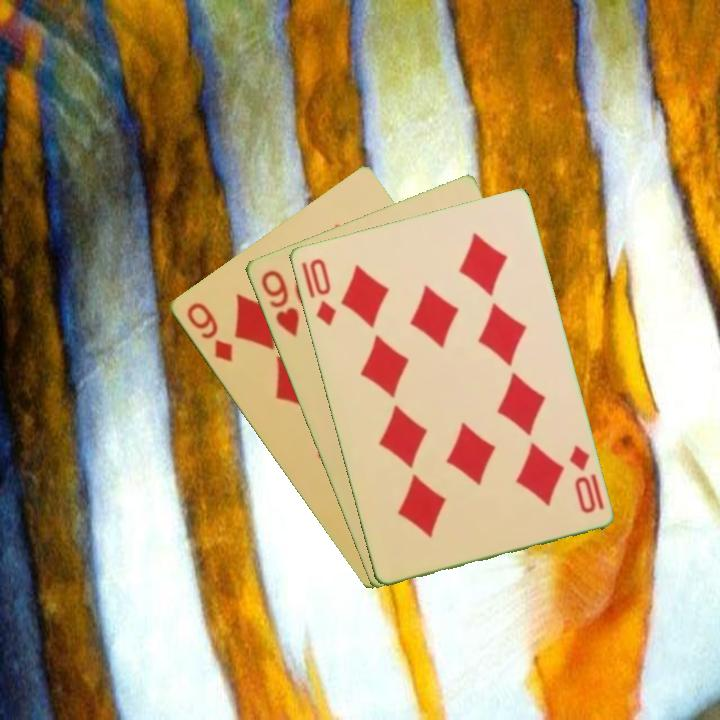10d: (305, 254, 340, 328), (565, 441, 598, 517)
9d: (182, 298, 235, 365)
9h: (257, 266, 302, 339)
